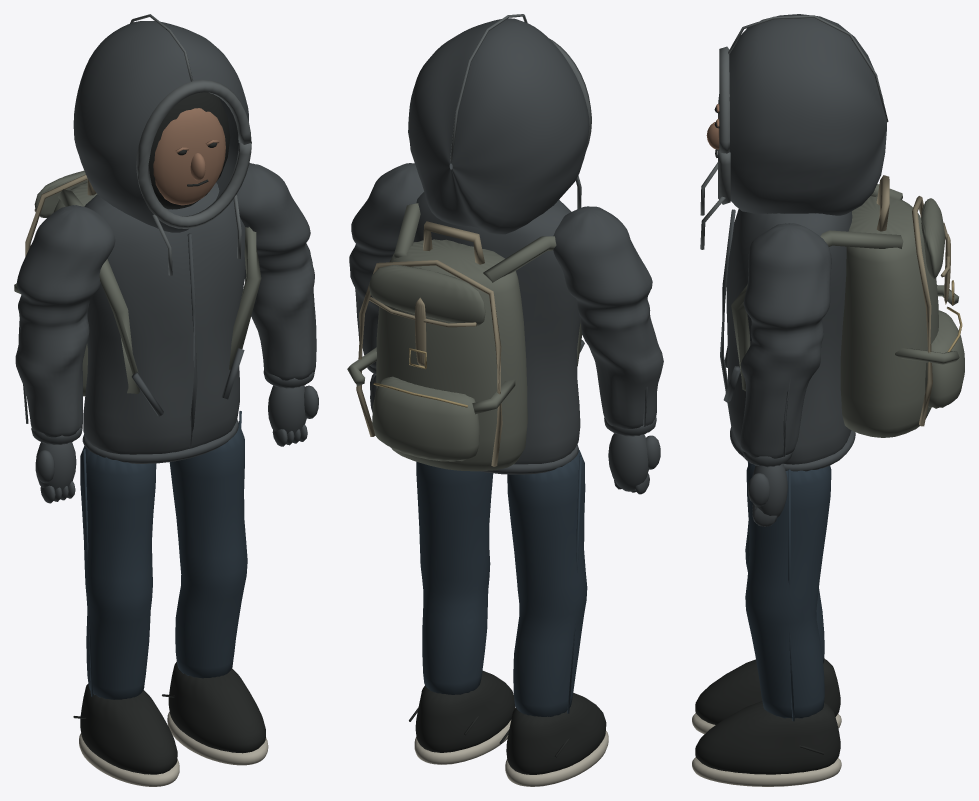
The model's file is player-cloth.glb.
The picture shows the model from 3 angles, left to right: view 1: azimuth 30°, elevation 25°; view 2: azimuth 150°, elevation 25°; view 3: azimuth 270°, elevation 25°; orthographic projection. The views are drawn at different scales.
Parts seen in each view (by area): view 1: Player_Mesh, Head_Mesh, LeftArm_Mesh, LeftLeg_Mesh, RightLeg_Mesh, RightArm_Mesh, Shoe.001_Mesh, Shoe_Mesh, Backpack_Mesh; view 2: Backpack_Mesh, Head_Mesh, LeftArm_Mesh, LeftLeg_Mesh, RightLeg_Mesh, Player_Mesh, Shoe_Mesh, Shoe.001_Mesh, RightArm_Mesh; view 3: Head_Mesh, Backpack_Mesh, RightArm_Mesh, RightLeg_Mesh, Player_Mesh, Shoe.001_Mesh, Shoe_Mesh, LeftLeg_Mesh.
Part boxes in pixels (left/top/right/bottom): Player_Mesh: left=82, top=182, right=245, bottom=463; Head_Mesh: left=73, top=14, right=251, bottom=275; LeftArm_Mesh: left=15, top=205, right=115, bottom=503; LeftLeg_Mesh: left=80, top=446, right=156, bottom=699; RightLeg_Mesh: left=169, top=411, right=247, bottom=678; RightArm_Mesh: left=237, top=163, right=318, bottom=446; Shoe.001_Mesh: left=162, top=662, right=268, bottom=765; Shoe_Mesh: left=73, top=684, right=179, bottom=786; Backpack_Mesh: left=14, top=170, right=261, bottom=396; Backpack_Mesh: left=347, top=203, right=582, bottom=471; Head_Mesh: left=408, top=14, right=591, bottom=234; LeftArm_Mesh: left=553, top=206, right=663, bottom=494; LeftLeg_Mesh: left=507, top=449, right=587, bottom=716; RightLeg_Mesh: left=416, top=462, right=493, bottom=694; Player_Mesh: left=413, top=192, right=584, bottom=474; Shoe_Mesh: left=499, top=693, right=608, bottom=786; Shoe.001_Mesh: left=409, top=670, right=515, bottom=764; RightArm_Mesh: left=349, top=163, right=423, bottom=412; Head_Mesh: left=700, top=14, right=888, bottom=249; Backpack_Mesh: left=731, top=175, right=964, bottom=437; RightArm_Mesh: left=740, top=223, right=831, bottom=526; RightLeg_Mesh: left=745, top=463, right=831, bottom=721; Player_Mesh: left=720, top=209, right=855, bottom=471; Shoe.001_Mesh: left=692, top=701, right=841, bottom=786; Shoe_Mesh: left=692, top=658, right=841, bottom=733; LeftLeg_Mesh: left=745, top=461, right=824, bottom=663.
Size of the model in its own units: 0.7894 by 1.87 by 0.6281.
